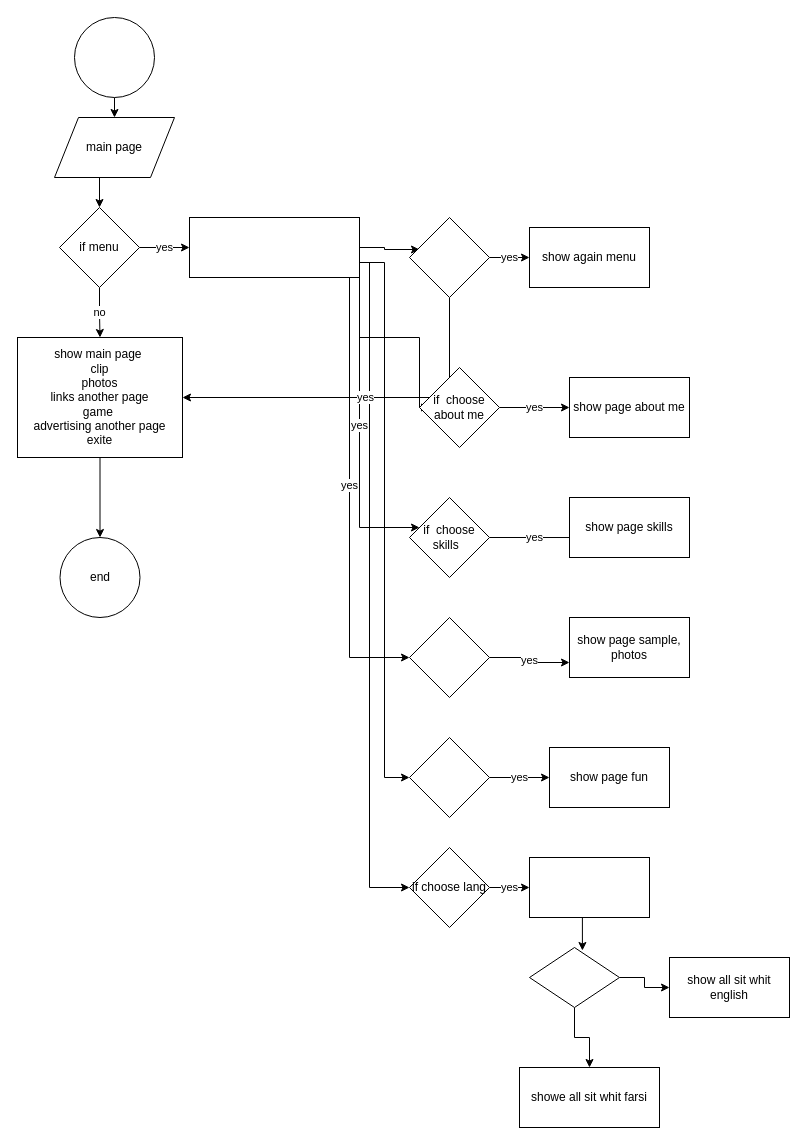
Some shapes in this 807 by 1145 pixel diagram are drawn without their labels. The centre of each missing label's shape, as x and y in pixels:
if choose farsi: [574,977]
if choose fun: [449,777]
if choose home: [449,257]
if choose samples: [449,657]
show tow option english farsi: [589,887]
showe home ,about me, skills,samples,fun,language: [274,247]
start: [114,57]
